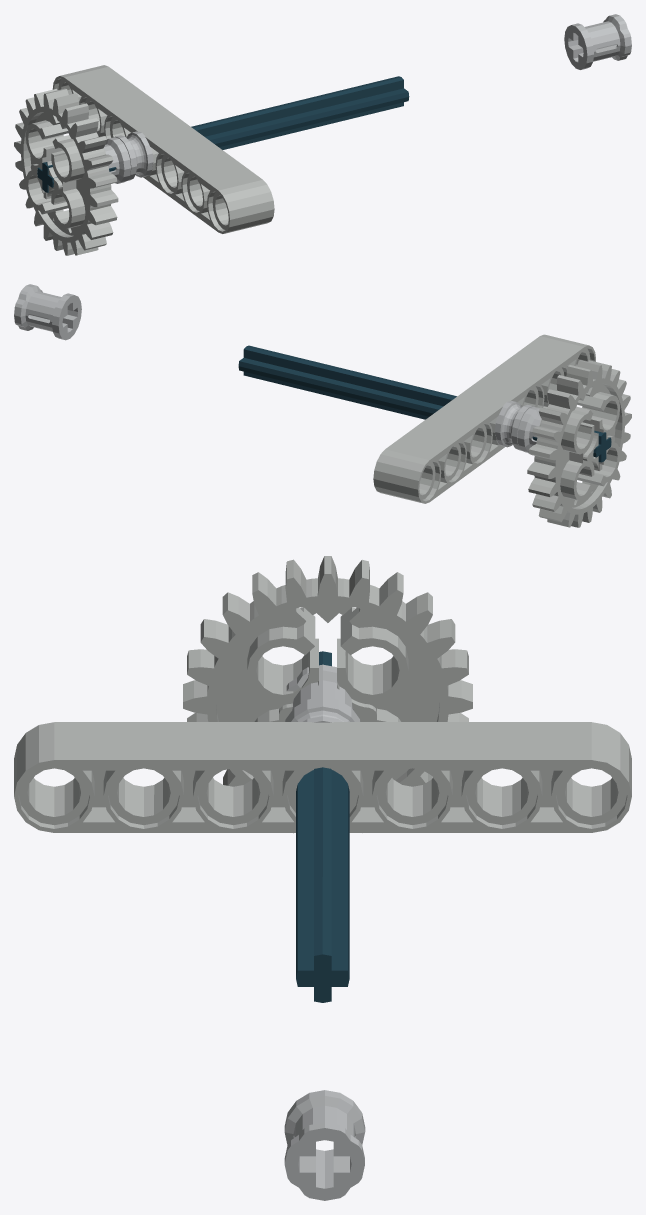
3 renders of one model, top to bottom at view 1: azimuth 30°, elevation 25°; view 2: azimuth 150°, elevation 25°; view 3: azimuth 270°, elevation 25°, orthographic. The views are drawn at different scales.
Parts seen in each view (by area): view 1: Piece003, Piece000, Piece004, Piece002, Piece005, Piece001; view 2: Piece003, Piece000, Piece004, Piece002, Piece005, Piece001; view 3: Piece003, Piece000, Piece004, Piece002, Piece001, Piece005.
Part boxes in pixels (left/top/right/bottom): Piece003: left=52, top=65, right=274, bottom=233; Piece000: left=14, top=88, right=118, bottom=255; Piece004: left=37, top=76, right=409, bottom=192; Piece002: left=564, top=14, right=631, bottom=69; Piece005: left=114, top=131, right=153, bottom=180; Piece001: left=104, top=137, right=130, bottom=183; Piece003: left=373, top=334, right=595, bottom=503; Piece000: left=527, top=360, right=631, bottom=527; Piece004: left=238, top=345, right=611, bottom=462; Piece002: left=14, top=284, right=81, bottom=340; Piece005: left=494, top=401, right=534, bottom=450; Piece001: left=517, top=406, right=541, bottom=452; Piece003: left=14, top=722, right=631, bottom=832; Piece000: left=183, top=556, right=472, bottom=833; Piece004: left=296, top=651, right=349, bottom=1002; Piece002: left=284, top=1090, right=365, bottom=1200; Piece001: left=285, top=664, right=360, bottom=721; Piece005: left=288, top=702, right=357, bottom=722.
Bounding box in the file's own units: 259 × 64.79 × 138.
